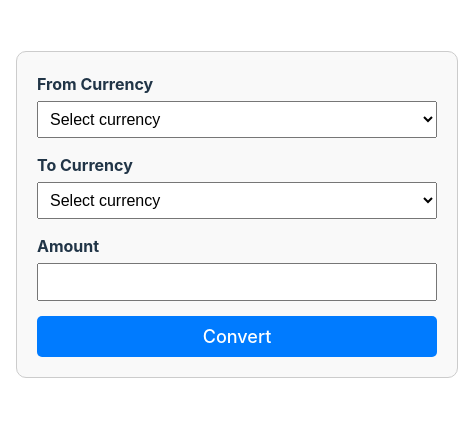
Test case: displays validation errors if required fields are missing
# Submit without filling in any values to trigger validation errors
Click the button "Convert". click: (237, 336)
box: [37,316,437,356]
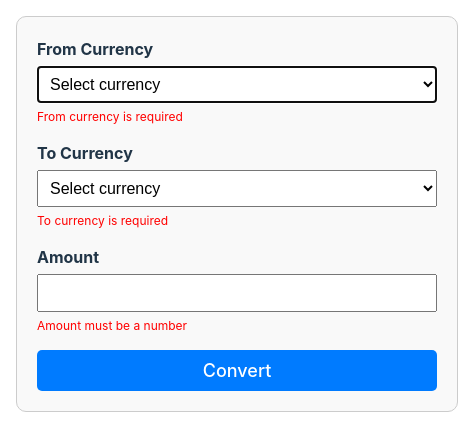
Now the text "From currency is required" is shown, box [37,109,183,124]
Now the text "To currency is required" is shown, box [37,213,168,228]
Now the text "Amount must be a number" is shown, box [37,318,187,333]
